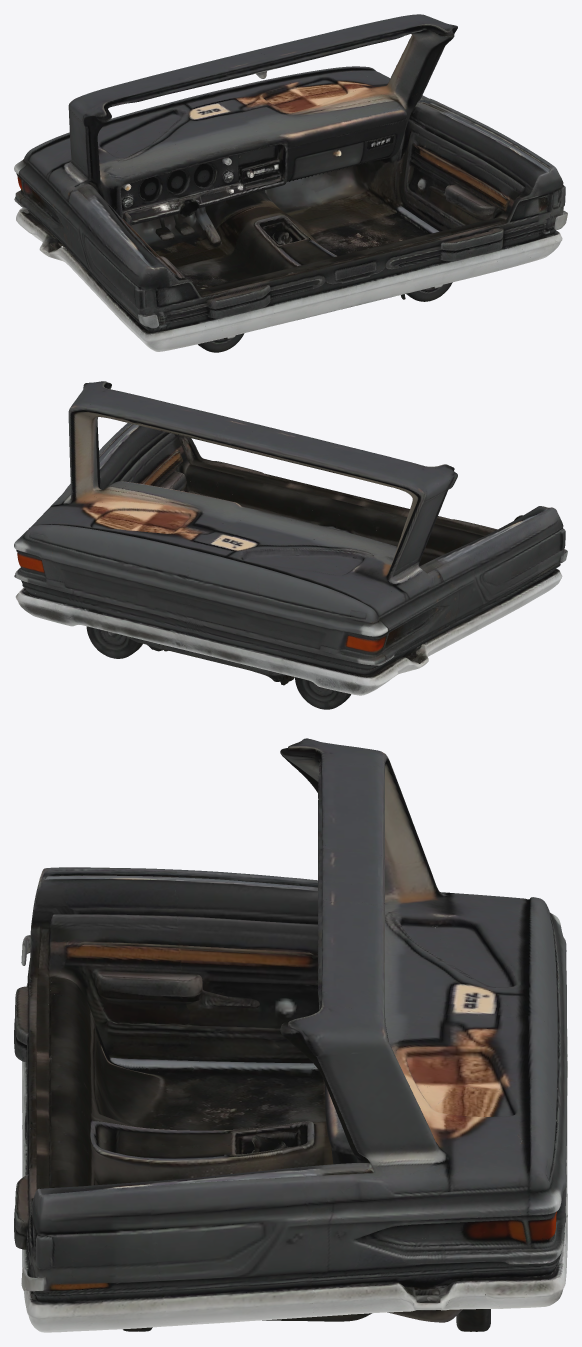
File: cabina-display.glb
The picture shows the model from 3 angles, top to bottom: view 1: azimuth 30°, elevation 25°; view 2: azimuth 150°, elevation 25°; view 3: azimuth 270°, elevation 25°; orthographic projection. The views are drawn at different scales.
Parts seen in each view (by area): view 1: cabina-display; view 2: cabina-display; view 3: cabina-display.
Part boxes in pixels (x1,y1,x2,y2): cabina-display: [14, 14, 567, 352]; cabina-display: [14, 381, 567, 709]; cabina-display: [14, 738, 567, 1332].
Size of the model in its own units: 1.9 by 0.9411 by 1.29.
1 material, 1 textured.
